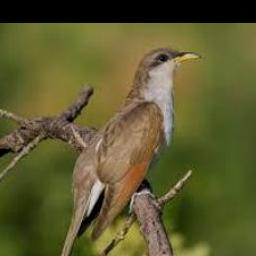Cuckoo: (47, 48, 201, 256)
